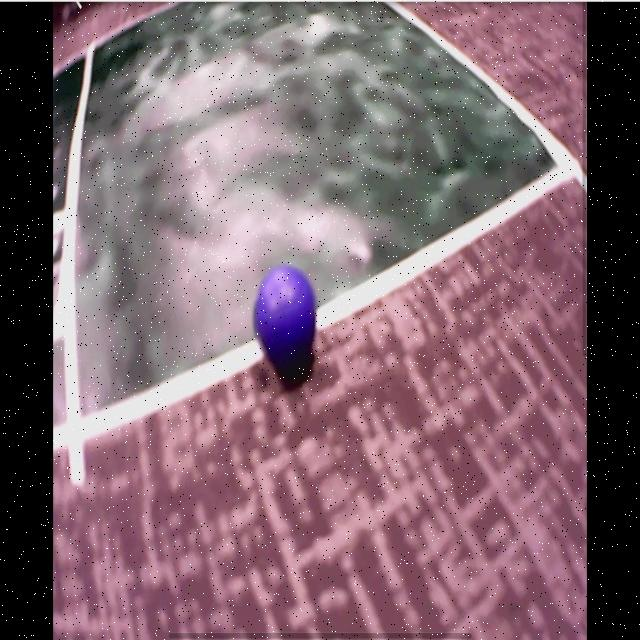ball: (256, 267, 316, 359)
